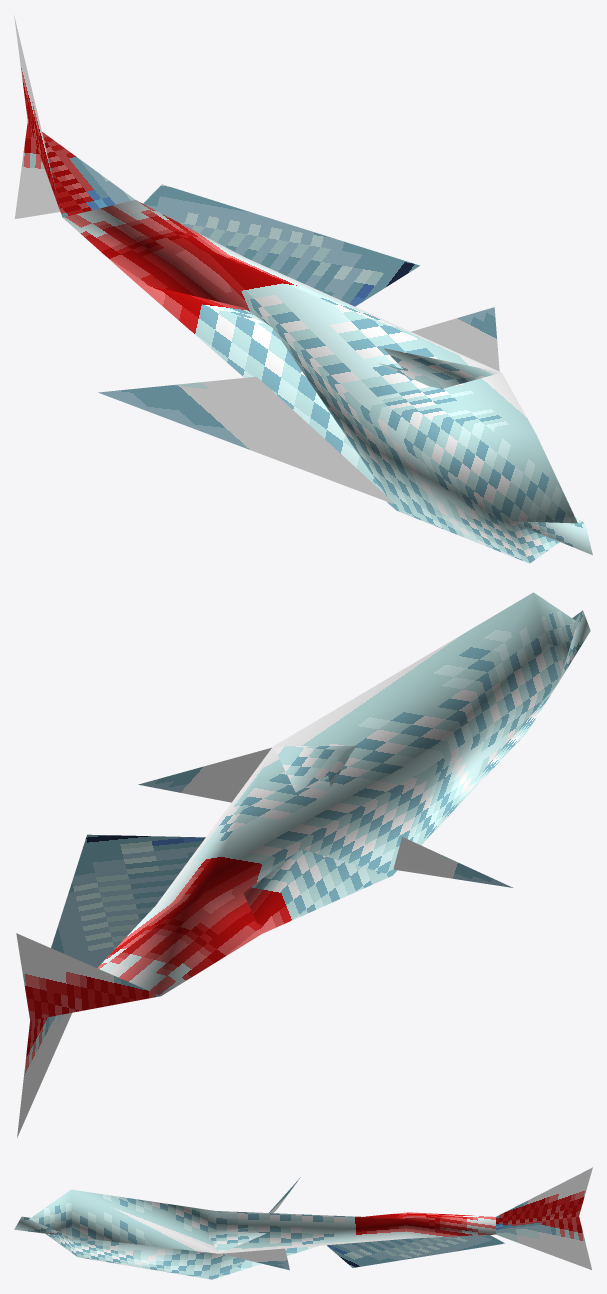
3 views of the same model, one above another, from view 1: azimuth 30°, elevation 25°; view 2: azimuth 150°, elevation 25°; view 3: azimuth 270°, elevation 25° (orthographic). The views are drawn at different scales.
Visible parts, largest first — view 1: 4802fish12_r; view 2: 4802fish12_r; view 3: 4802fish12_r.
Boxes of the visible parts, x1,y1,x2,y2 form: 4802fish12_r: (14,15,592,563); 4802fish12_r: (16,592,590,1137); 4802fish12_r: (14,1167,592,1279).
Size of the model in its own units: 0.3872 by 0.2122 by 1.
Materials: 1 (1 with a texture image).
